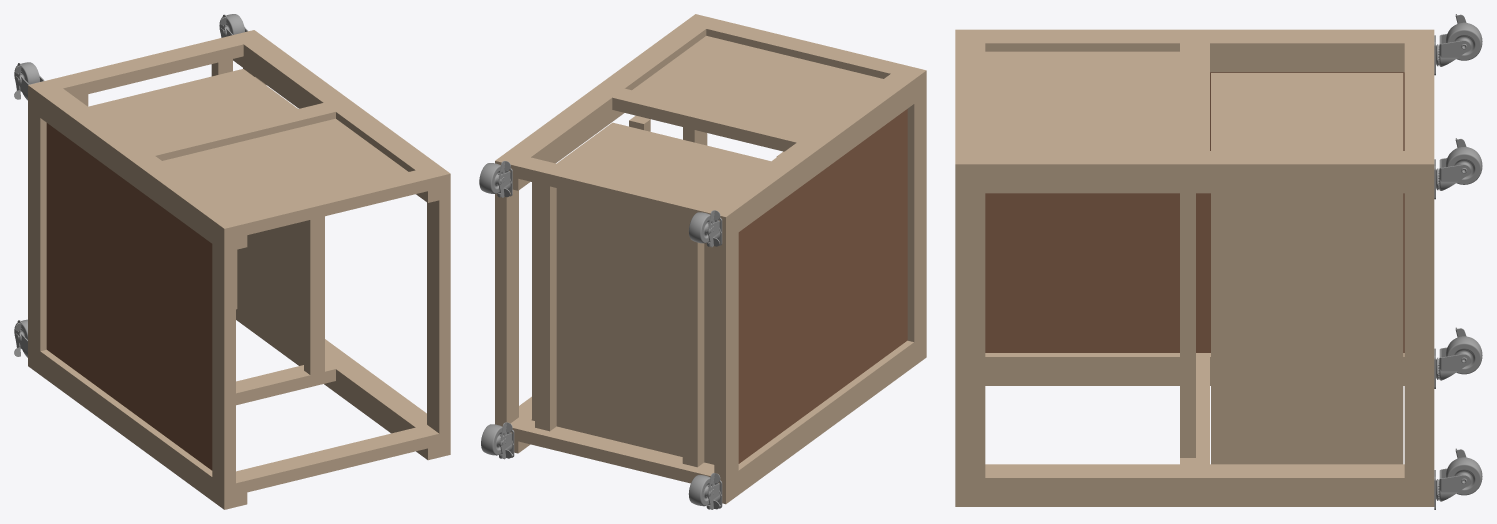
File: file-cabinet-frame.fbx
3 views of the same model, side by side, from view 1: azimuth 30°, elevation 25°; view 2: azimuth 150°, elevation 25°; view 3: azimuth 270°, elevation 25° (orthographic). The views are drawn at different scales.
Parts seen in each view (by area): view 1: Body1 (×17); view 2: Body1 (×19), Body24 (×4); view 3: Body1 (×16), Body24 (×4), Body25 (×4).
Part boxes in pixels (box(x1,y1,x2,y2)): Body1 (×17): box(28, 30, 450, 509); Body1 (×19): box(495, 14, 926, 504); Body24 (×4): box(479, 163, 714, 506); Body1 (×16): box(955, 29, 1434, 506); Body24 (×4): box(1446, 22, 1482, 495); Body25 (×4): box(1439, 34, 1470, 501).
Bounding box in the file's own units: 17.66 × 21.99 × 28.75.
